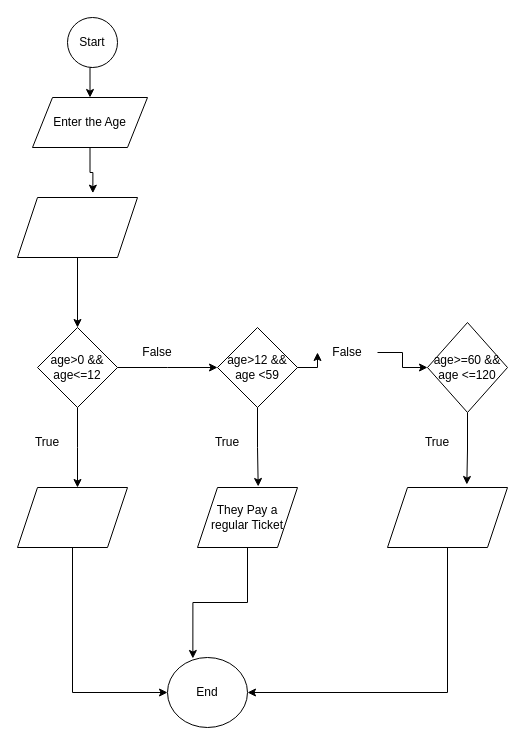
This 525x745 diagram has some shape labels left out. The box of each missing label's shape, as (x1, y1, x2, y2) in pixels:
Storage in the variable: (16, 196, 138, 258)
They Receive a child Discount: (16, 486, 128, 548)
They Receive a Senior Discount: (386, 486, 508, 548)
